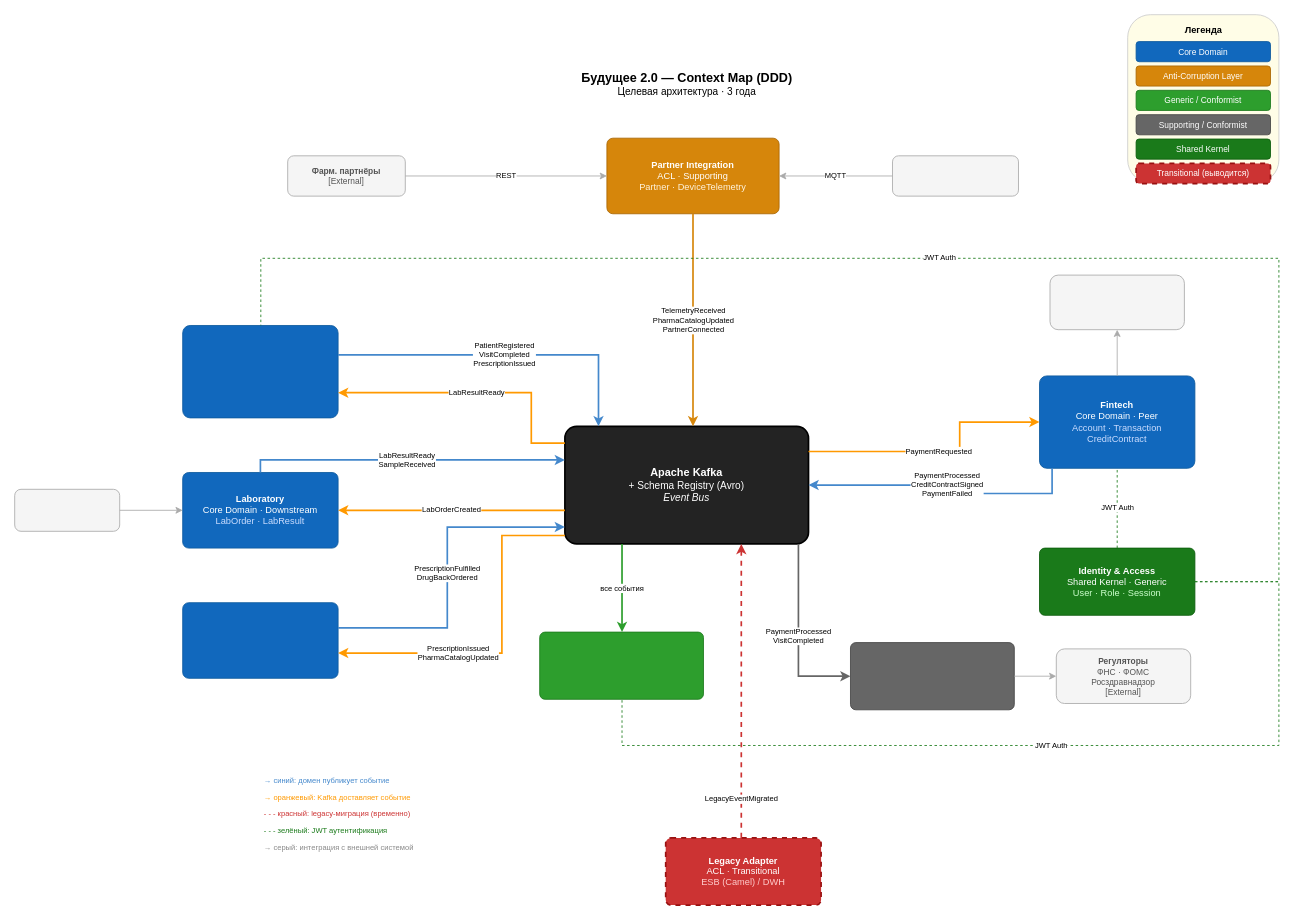
Image size: 1294x921. Some labels were removed from this diagram. Here are the shapes that lost their labels. From the top down, the centre of each, then its label:
At (x=955, y=175): "Медоборудование [External]".
At (x=1116, y=302): "Банковские сети SWIFT · МИР · ЦБ РФ [External]".
At (x=260, y=371): "Clinic Core Domain · Upstream Patient · Appointment MedicalVisit · MedicalRecord".
At (x=67, y=509): "Лаб. системы [External]".
At (x=260, y=640): "Pharmacy Core Domain · Downstream Prescription · PharmacyOrder".
At (x=621, y=665): "Analytics Platform Generic · Conformist DataProduct · Report".
At (x=932, y=676): "Regulatory Reporting Supporting · Conformist RegulatoryReport".
